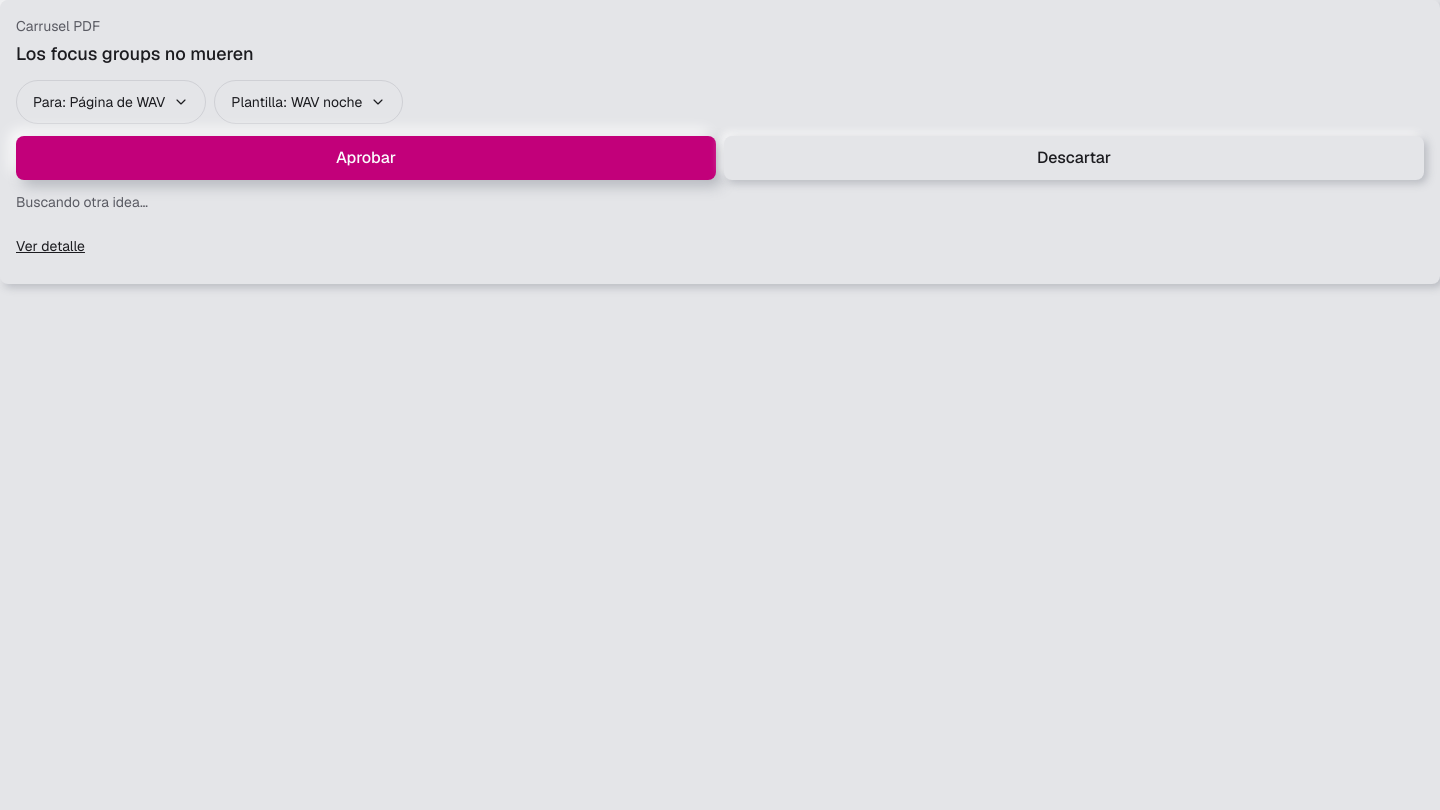
TarjetaDeIdea › while another is being looked for, it says so and does not ask twice
The image size is (1440, 810).
Click the button "Ver detalle" at [50, 246], box [16, 224, 85, 268]
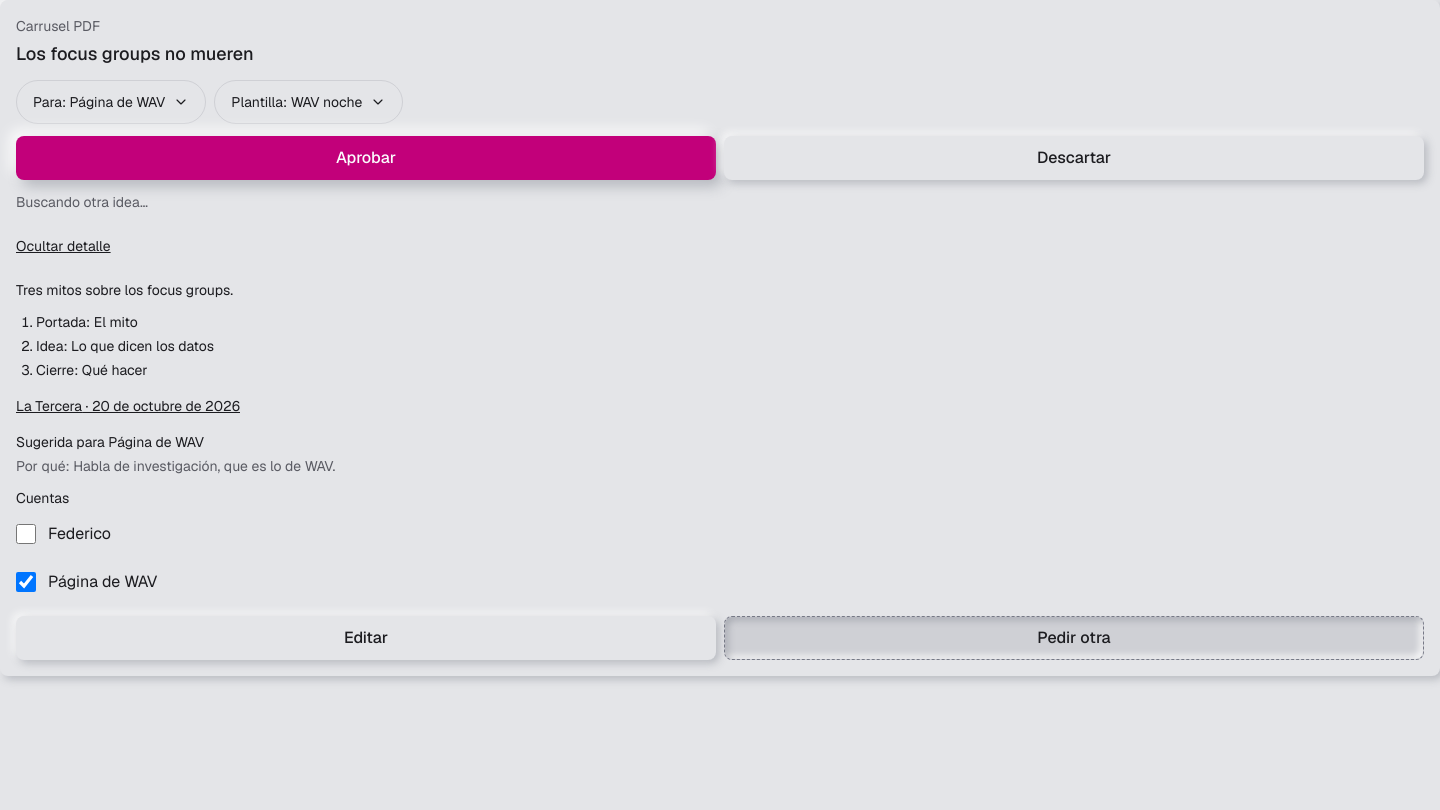
Check: the text "Buscando otra idea…" is shown, box [16, 193, 148, 211]
Check: the button "Pedir otra" is disabled, box [724, 616, 1424, 660]
